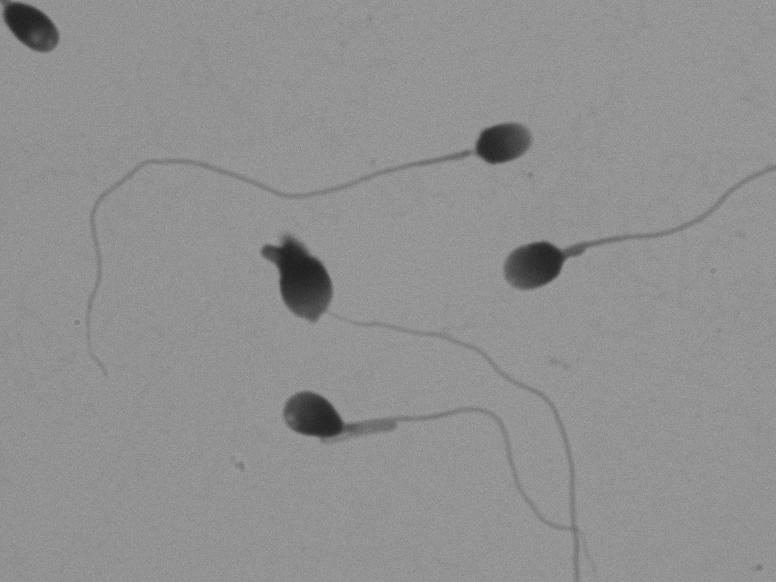Abnormal: (161, 206, 432, 347), (475, 170, 675, 313), (195, 384, 489, 480)
Normal: (91, 72, 549, 229)
